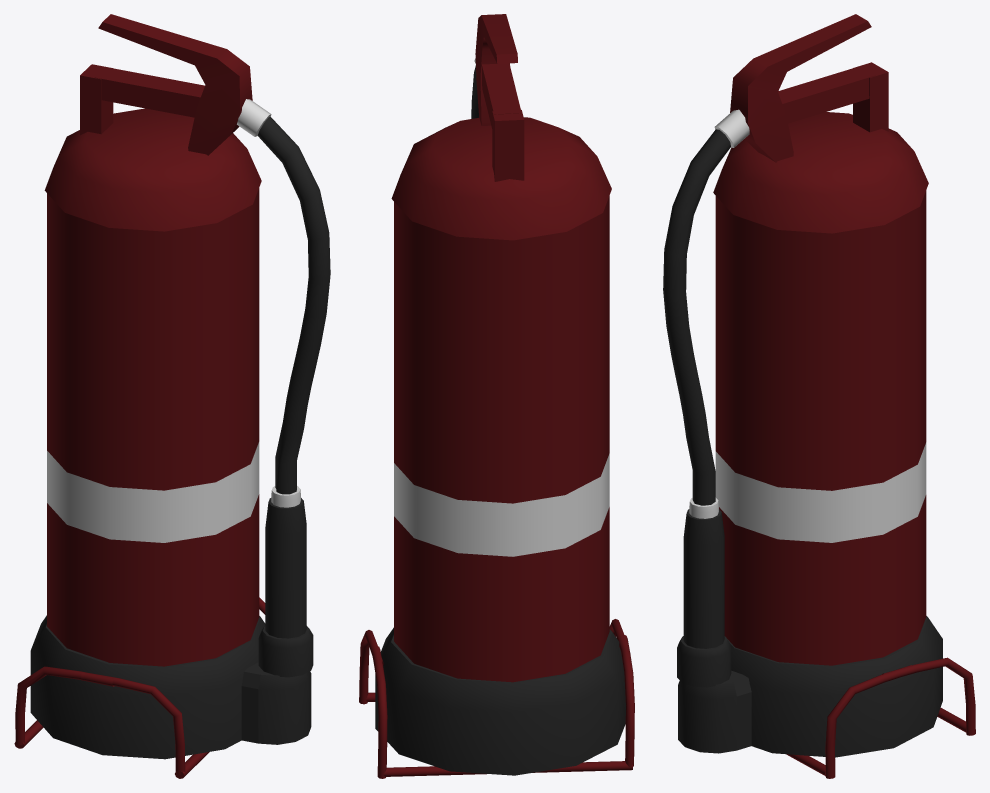
The model's file is fire.fbx.
3 renders of one model, left to right at view 1: azimuth 30°, elevation 25°; view 2: azimuth 150°, elevation 25°; view 3: azimuth 270°, elevation 25°, orthographic. The views are drawn at different scales.
Visible parts, largest first — view 1: fire; view 2: fire; view 3: fire.
Part boxes in pixels (x1,y1,x2,y2): fire: (14, 14, 330, 778); fire: (359, 14, 634, 778); fire: (663, 14, 975, 778).
Size of the model in its own units: 266 by 653 by 269.
